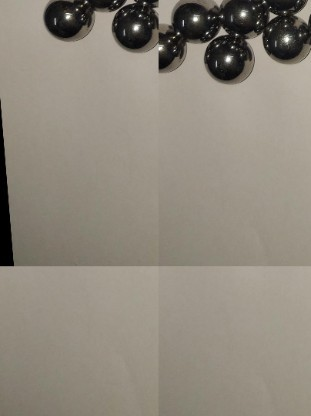ironball: (201, 30, 254, 86), (42, 1, 99, 46), (263, 12, 311, 65), (111, 0, 158, 51), (216, 0, 274, 38), (158, 21, 190, 75), (177, 0, 220, 40)
